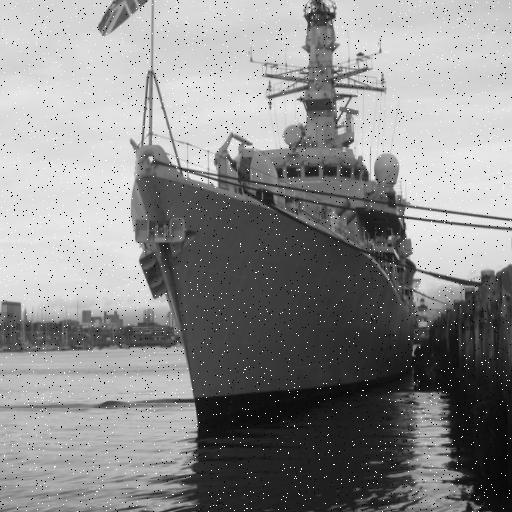Fragata: (127, 1, 419, 450)
